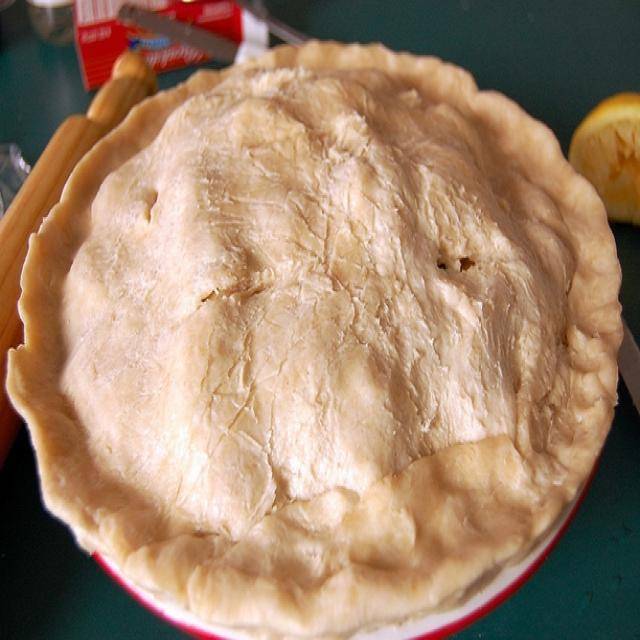Apple: (17, 55, 617, 629)
